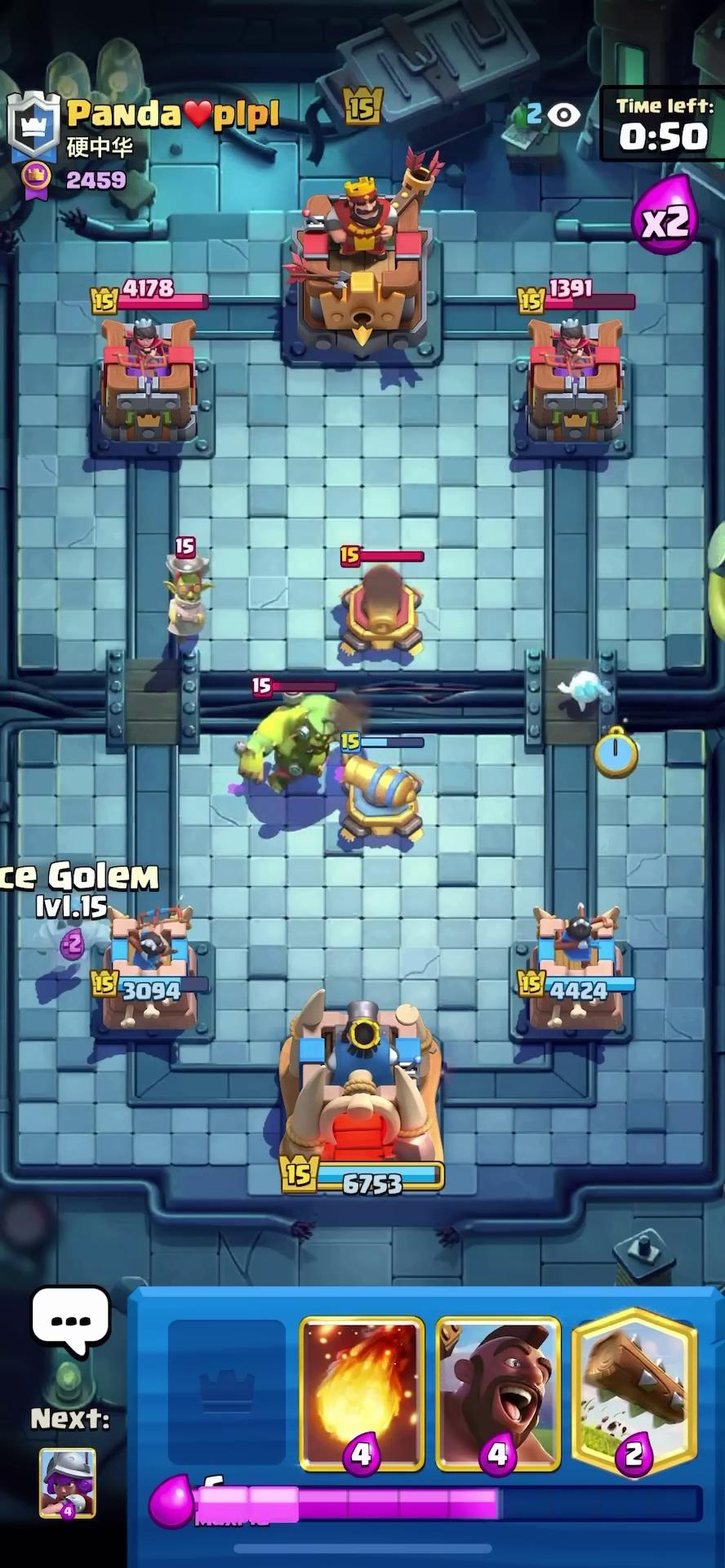cannon: (327, 735, 433, 853)
ice_spirit: (557, 655, 612, 717)
